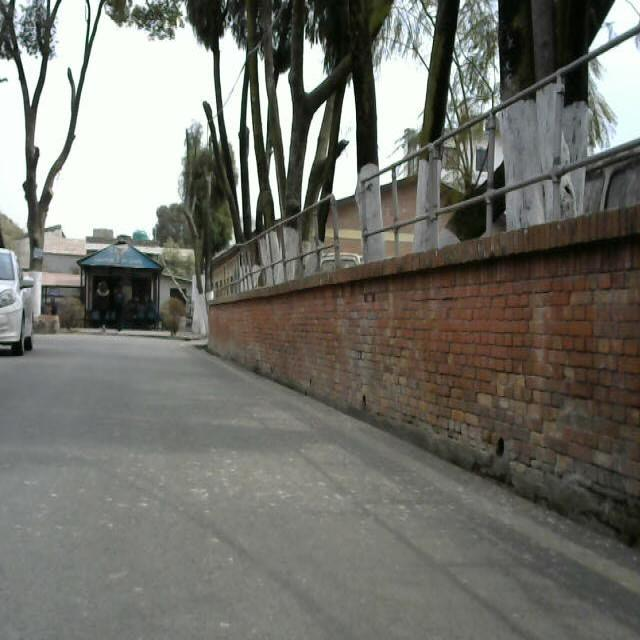Buildings: (86, 232, 205, 342)
Road: (0, 333, 640, 640)
trees: (182, 1, 442, 198), (0, 1, 105, 349)
